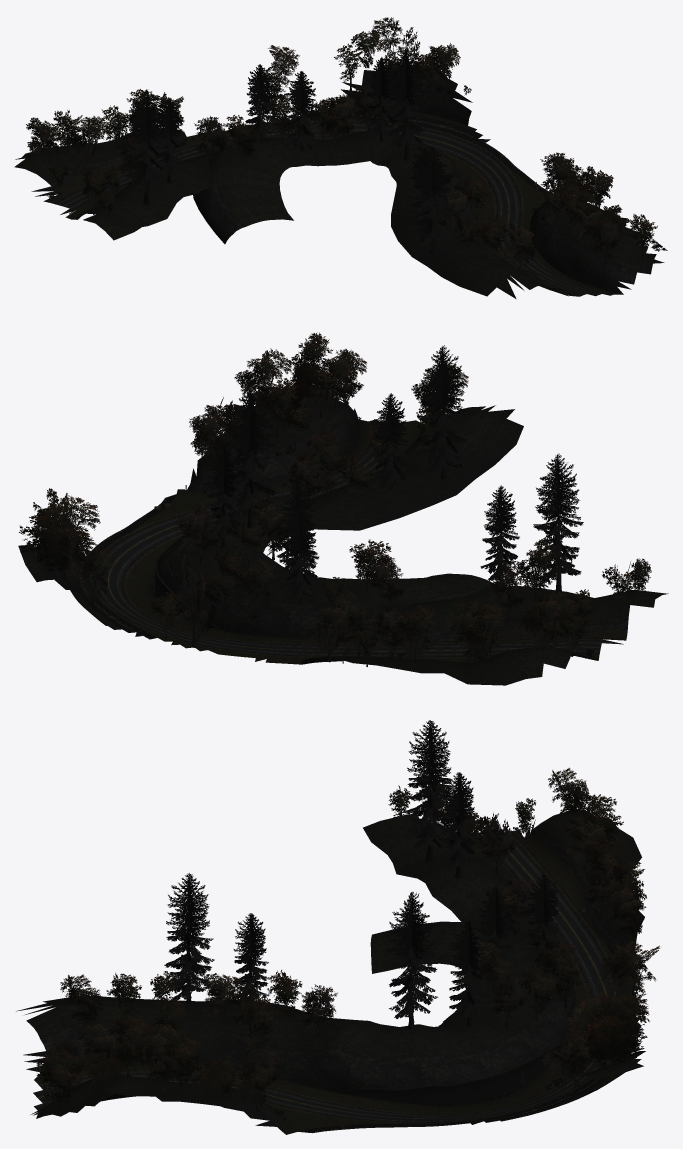
Rendered from cell_6_-15.gltf.
3 renders of one model, top to bottom at view 1: azimuth 30°, elevation 25°; view 2: azimuth 150°, elevation 25°; view 3: azimuth 270°, elevation 25°, orthographic. The views are drawn at different scales.
Visible parts, largest first — view 1: cell_6_-15; view 2: cell_6_-15; view 3: cell_6_-15.
Part boxes in pixels (x1,y1,x2,y2): cell_6_-15: (14, 17, 667, 299); cell_6_-15: (18, 332, 668, 685); cell_6_-15: (16, 720, 659, 1134).
Size of the model in its own units: 271 by 97.8 by 280.
Materials: 39 (39 with a texture image).
